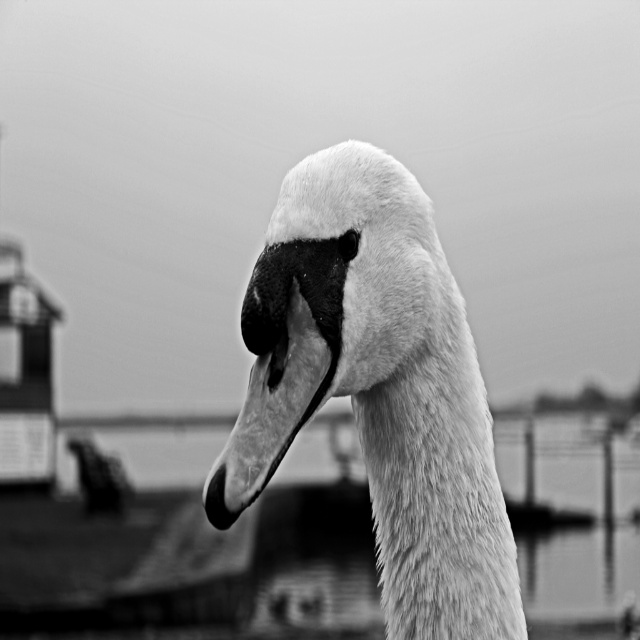Duck: (204, 156, 534, 614)
